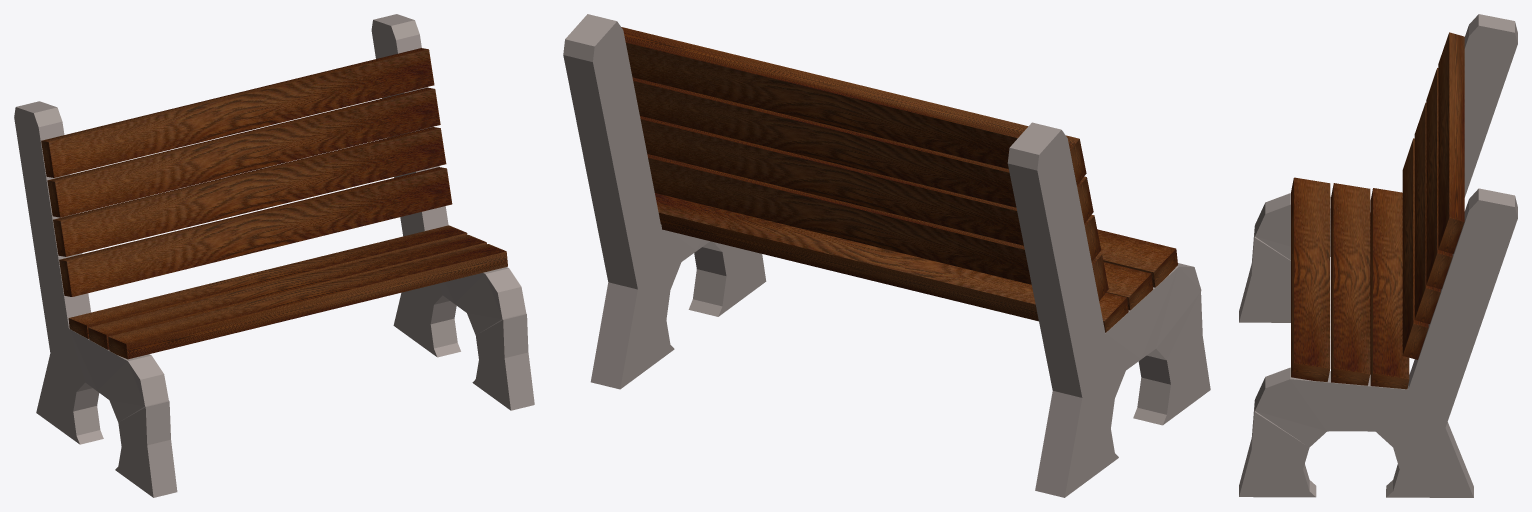
Rendered from Bench.obj.
3 renders of one model, left to right at view 1: azimuth 30°, elevation 25°; view 2: azimuth 150°, elevation 25°; view 3: azimuth 270°, elevation 25°, orthographic. The views are drawn at different scales.
Visible parts, largest first — view 1: Diff_Circle, Cube.002_Cube.003, Cube.007, Cube, Cube.001_Cube.002, Diff.001_Circle.002, Cube.003_Cube.004, Cube.005_Cube.006, Cube.004_Cube.005; view 2: Diff_Circle, Diff.001_Circle.002, Cube, Cube.002_Cube.003, Cube.007, Cube.001_Cube.002, Cube.005_Cube.006, Cube.003_Cube.004, Cube.004_Cube.005; view 3: Diff.001_Circle.002, Diff_Circle, Cube.003_Cube.004, Cube.004_Cube.005, Cube.005_Cube.006, Cube, Cube.002_Cube.003, Cube.007, Cube.001_Cube.002.
Part boxes in pixels (<box>): Diff_Circle: <box>14,101,177,497</box>; Cube.002_Cube.003: <box>59,167,452,296</box>; Cube.007: <box>47,87,440,217</box>; Cube: <box>41,48,434,177</box>; Cube.001_Cube.002: <box>53,127,446,256</box>; Diff.001_Circle.002: <box>371,14,534,410</box>; Cube.003_Cube.004: <box>108,244,507,359</box>; Cube.005_Cube.006: <box>68,225,467,338</box>; Cube.004_Cube.005: <box>88,235,486,349</box>; Diff_Circle: <box>1007,122,1210,497</box>; Diff.001_Circle.002: <box>563,14,766,389</box>; Cube: <box>621,27,1086,185</box>; Cube.002_Cube.003: <box>647,154,1108,300</box>; Cube.007: <box>632,77,1093,223</box>; Cube.001_Cube.002: <box>640,116,1101,261</box>; Cube.005_Cube.006: <box>655,193,1128,332</box>; Cube.003_Cube.004: <box>1097,229,1177,287</box>; Cube.004_Cube.005: <box>1103,262,1153,310</box>; Diff.001_Circle.002: <box>1239,188,1517,497</box>; Diff_Circle: <box>1239,14,1517,322</box>; Cube.003_Cube.004: <box>1291,177,1330,381</box>; Cube.004_Cube.005: <box>1331,183,1370,385</box>; Cube.005_Cube.006: <box>1370,188,1409,389</box>; Cube: <box>1438,32,1464,253</box>; Cube.002_Cube.003: <box>1402,138,1428,359</box>; Cube.007: <box>1426,68,1452,289</box>; Cube.001_Cube.002: <box>1414,102,1440,324</box>.
Size of the model in its own units: 1.95 by 1.46 by 1.23.
Materials: 2 (1 with a texture image).
